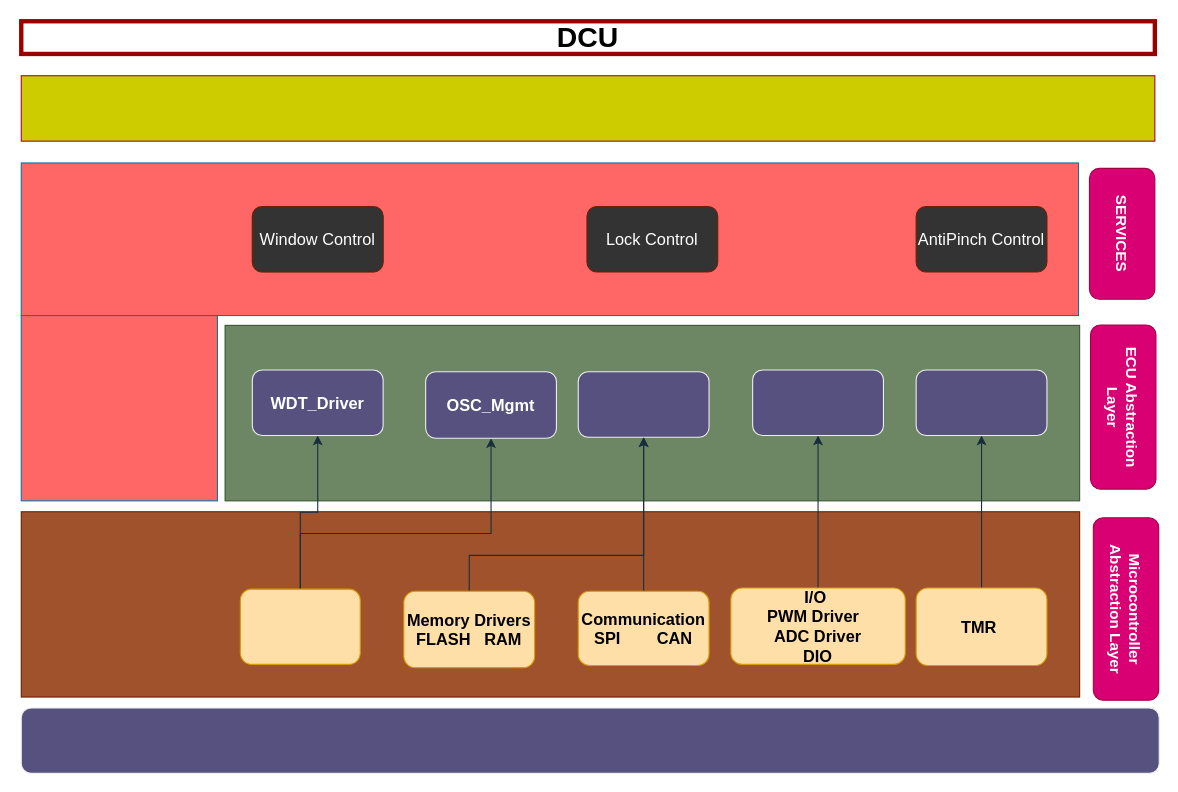
This 1178x792 diagram has some shape labels left out. The shapes that lost their labels are listed below. From the top down, each one's centre as x and y in pixels, then its label:
[587,108]: RTE
[118,407]: SCHEDULER
[643,404]: CAN external Driver
[817,402]: I/O HW abstraction
[981,402]: TMR_Mgmt
[299,626]: WDT CLK
[589,740]: InfiNeon TC275
